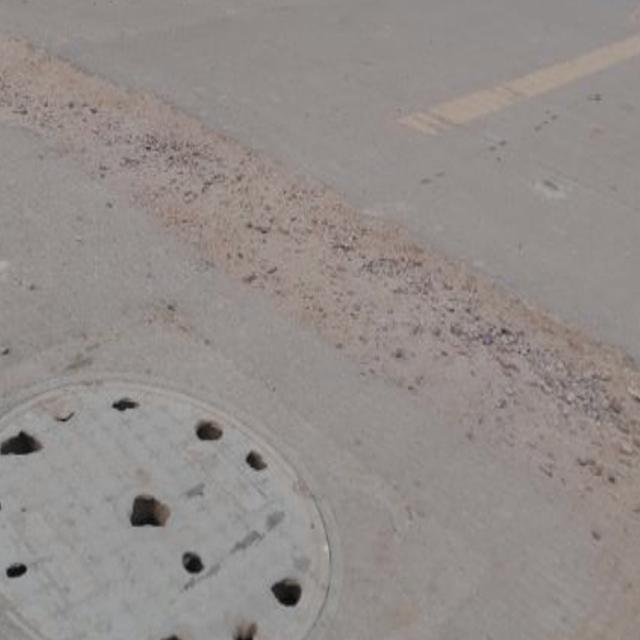broke: (0, 372, 344, 640)
